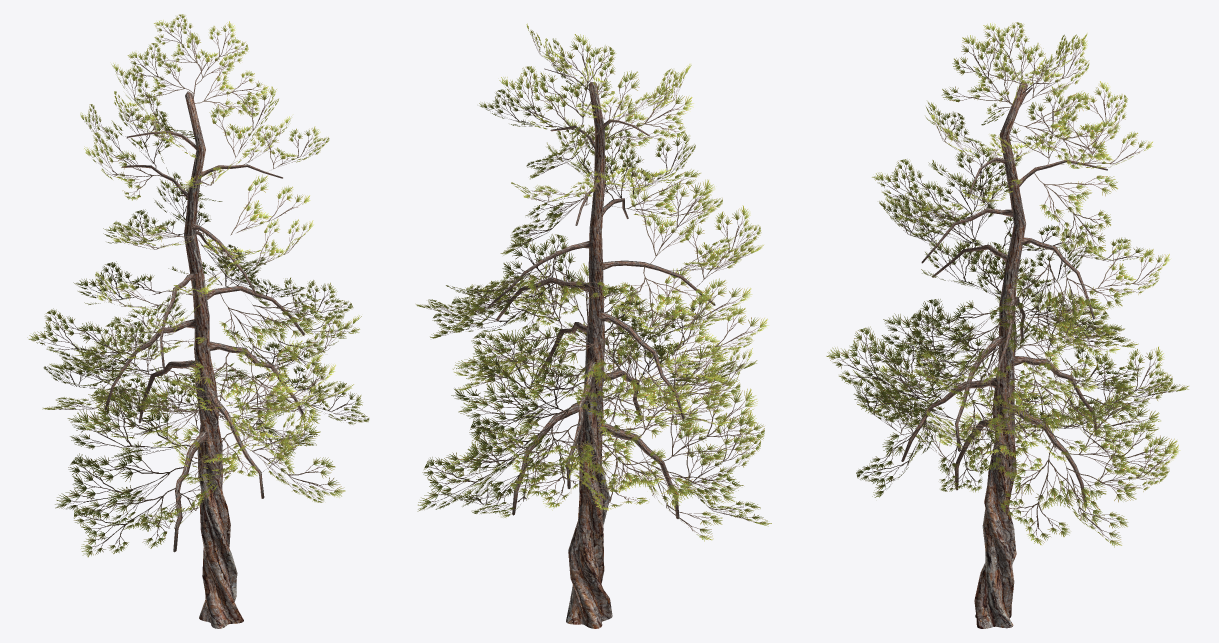
The model's file is pine02.obj.
The picture shows the model from 3 angles, left to right: view 1: azimuth 30°, elevation 25°; view 2: azimuth 150°, elevation 25°; view 3: azimuth 270°, elevation 25°; orthographic projection. The views are drawn at different scales.
Parts seen in each view (by area): view 1: tree; view 2: tree; view 3: tree.
Part boxes in pixels (x1,y1,x2,y2): tree: (27,14,369,628); tree: (416,23,771,628); tree: (826,22,1188,628).
Size of the model in its own units: 156 by 275 by 165.
2 materials, 2 textured.
